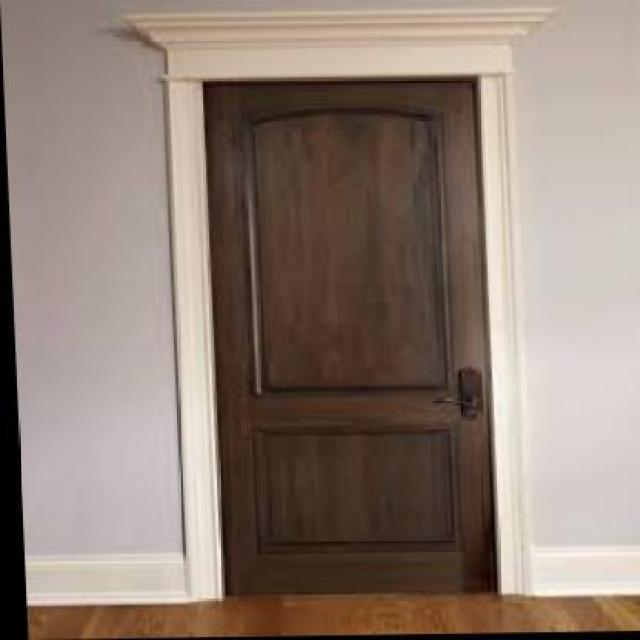door: (199, 65, 507, 606)
